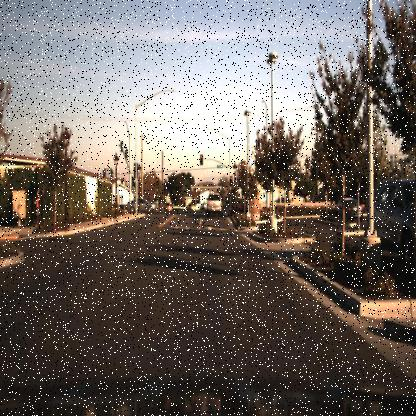car: (365, 176, 415, 268), (334, 197, 363, 221), (130, 196, 158, 218), (205, 191, 222, 216)
trafficLight-Red: (151, 177, 159, 192), (197, 152, 204, 168), (240, 158, 245, 176), (198, 150, 205, 162), (227, 174, 234, 185), (154, 176, 160, 186)
